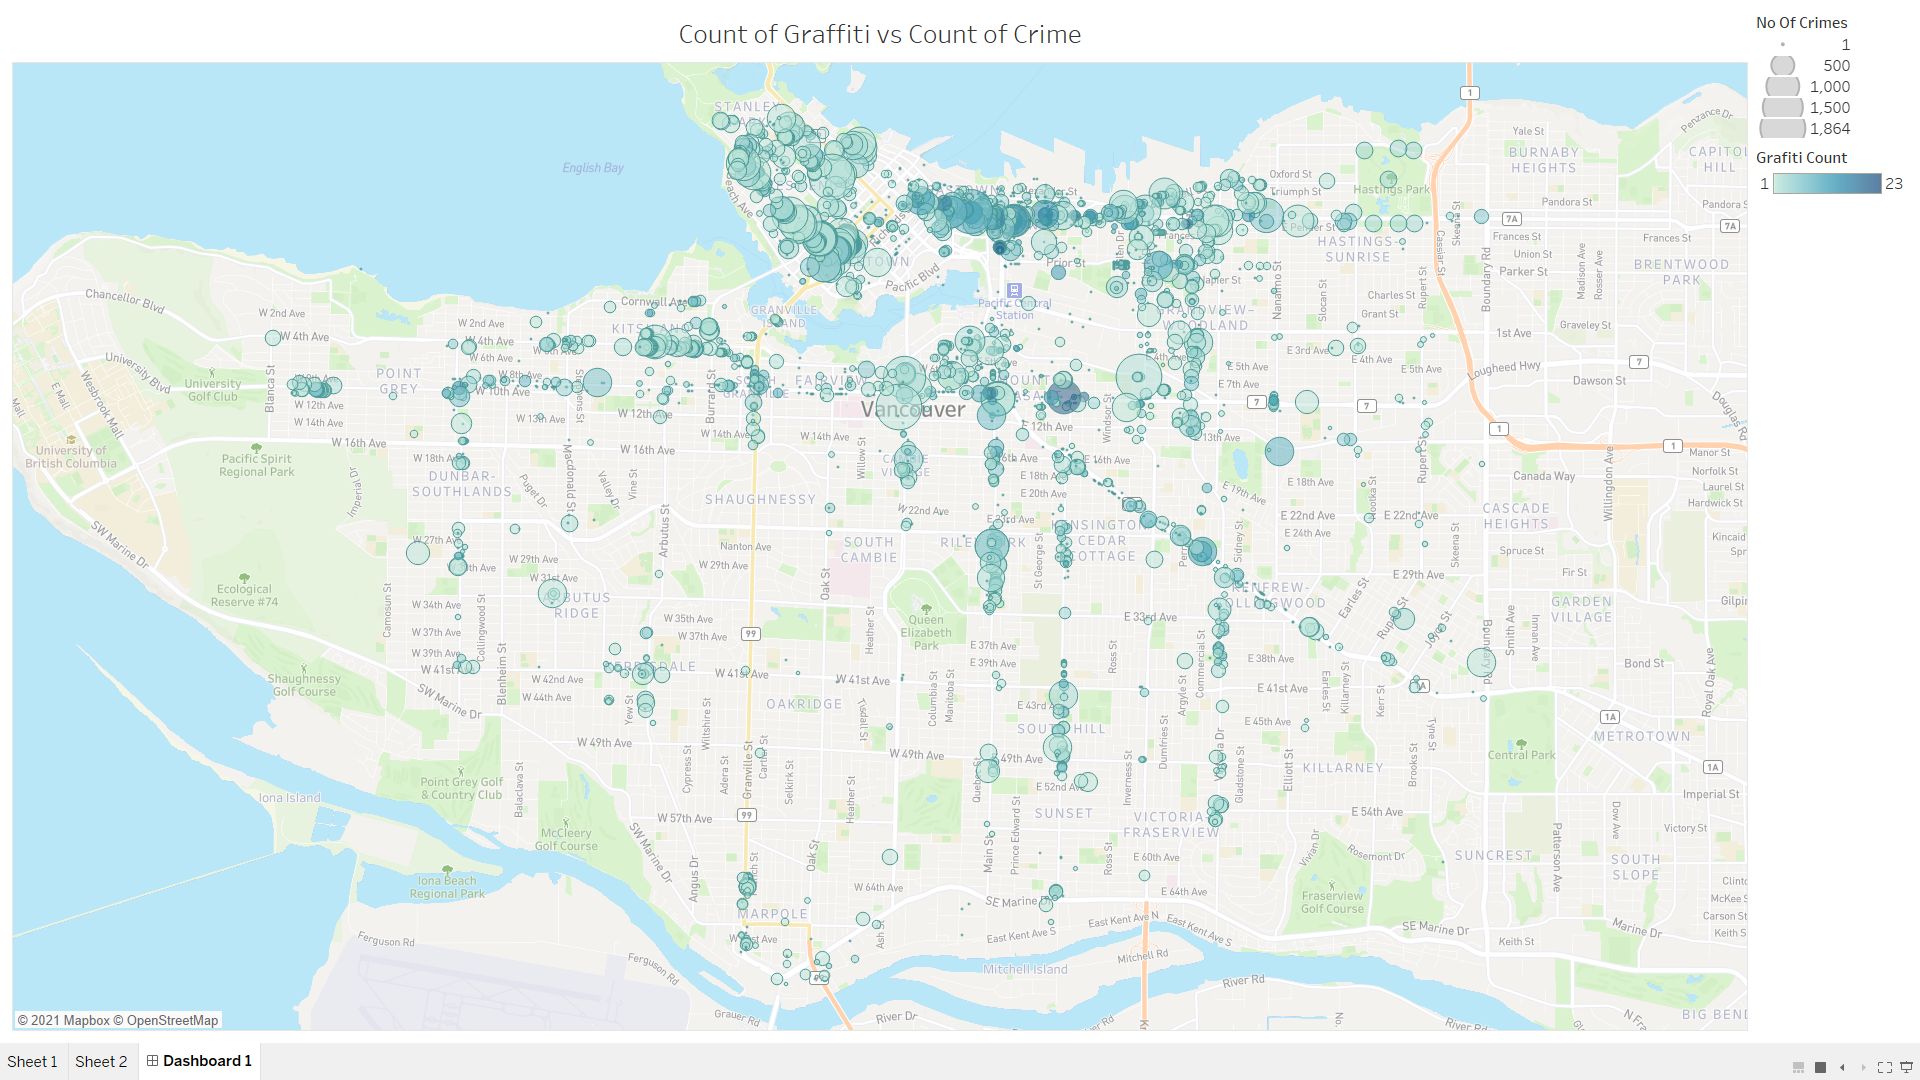

The page's visual inventory and layout, read from the dashboard file:
{"tool":"tableau","page":{"name":"Dashboard 1","canvas":[1000,1000],"units":"permille","ordinal":0},"visuals":[{"type":"worksheet","title":"Sheet 1","mark":"Automatic","box":[4.8,9.3,893.8,981.4]},{"type":"legend","title":"Sheet 1","param":"[federated.1s4b5z10wqg3g819w9l4s04un8us].[none:TYPE:nk]","box":[898.6,9.3,96.6,278.7]}]}

Visuals, with their boxes on the dashboard's canvas, which has no fixed pixel size, in thousandths of its width and height (x1, y1, x2, y2). These are canvas units, not pixel positions in the 1920x1080 screenshot, which may show the page scaled, cropped or inside an application window:
"Sheet 1" worksheet: <region>5, 9, 899, 991</region>
"Sheet 1" legend: <region>899, 9, 995, 288</region>
